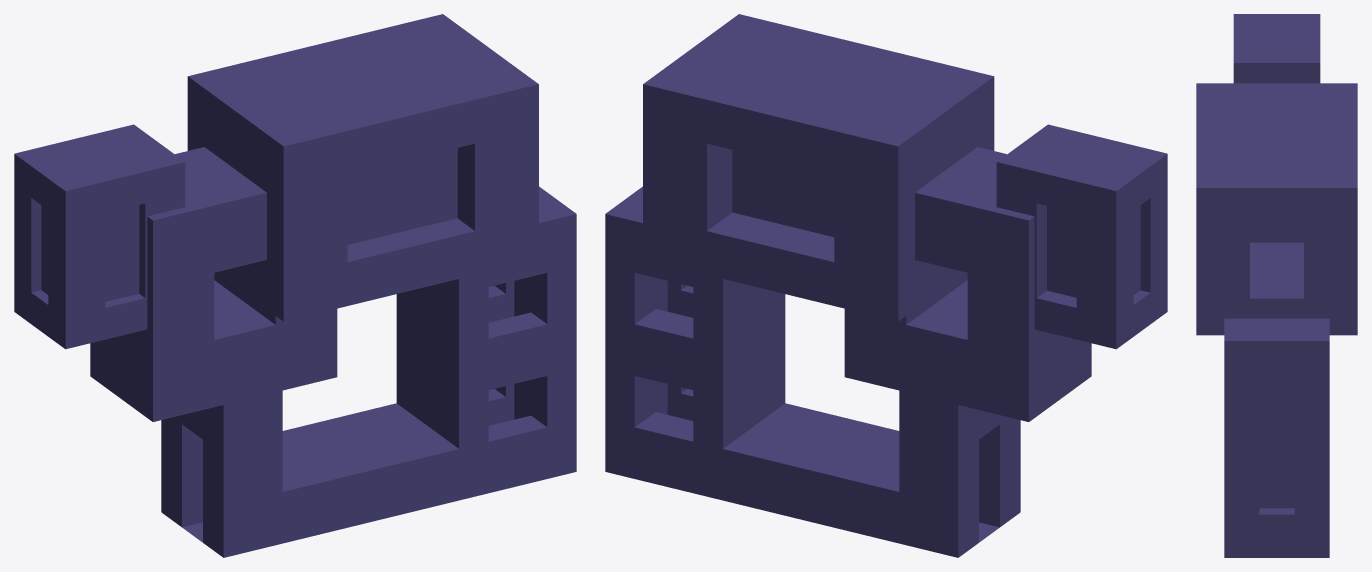
The model's file is square_house2.fbx.
3 views of the same model, side by side, from view 1: azimuth 30°, elevation 25°; view 2: azimuth 150°, elevation 25°; view 3: azimuth 270°, elevation 25° (orthographic). The views are drawn at different scales.
Visible parts, largest first — view 1: group7_pasted__group5_pasted__pasted__pCube4; view 2: group7_pasted__group5_pasted__pasted__pCube4; view 3: group7_pasted__group5_pasted__pasted__pCube4.
Boxes of the visible parts, x1,y1,x2,y2 form: group7_pasted__group5_pasted__pasted__pCube4: [14, 14, 576, 557]; group7_pasted__group5_pasted__pasted__pCube4: [605, 14, 1167, 557]; group7_pasted__group5_pasted__pasted__pCube4: [1196, 14, 1357, 557].
Size of the model in its own units: 10.57 by 8.25 by 3.47.
